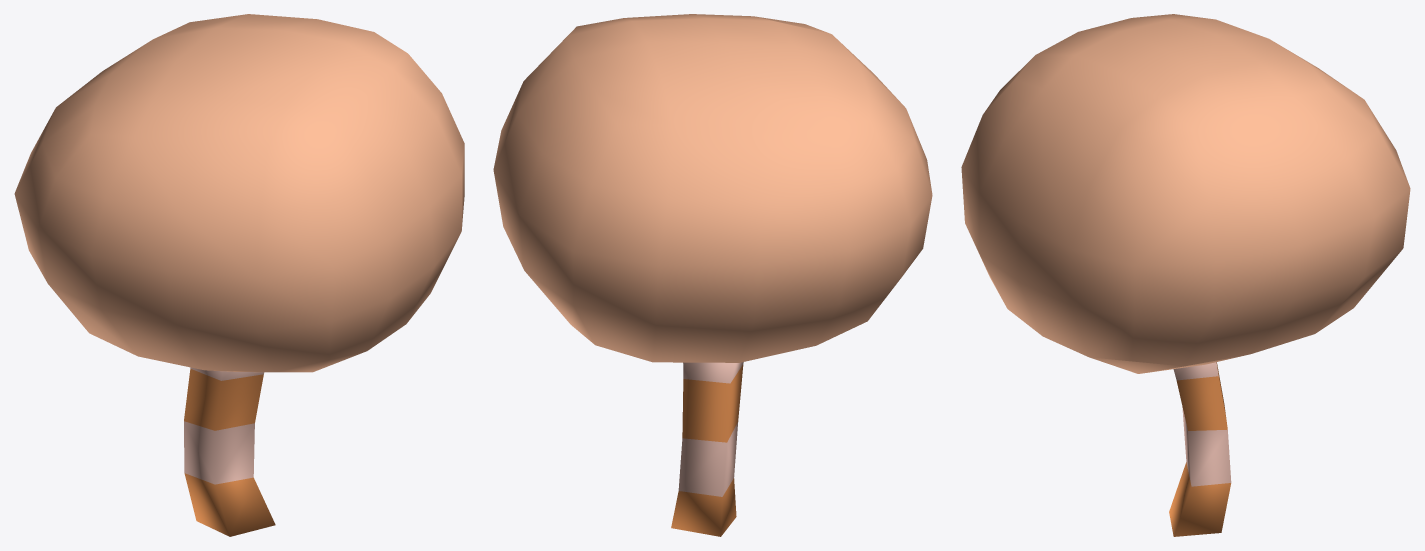
File: candy_assets22.fbx
3 views of the same model, side by side, from view 1: azimuth 30°, elevation 25°; view 2: azimuth 150°, elevation 25°; view 3: azimuth 270°, elevation 25° (orthographic).
Parts seen in each view (by area): view 1: candy_assets22; view 2: candy_assets22; view 3: candy_assets22.
Boxes of the visible parts, box(x1,y1,x2,y2) form: candy_assets22: box(14, 14, 464, 536); candy_assets22: box(493, 14, 932, 536); candy_assets22: box(961, 14, 1410, 536).
Size of the model in its own units: 525 by 596 by 512.
1 material, 1 textured.
